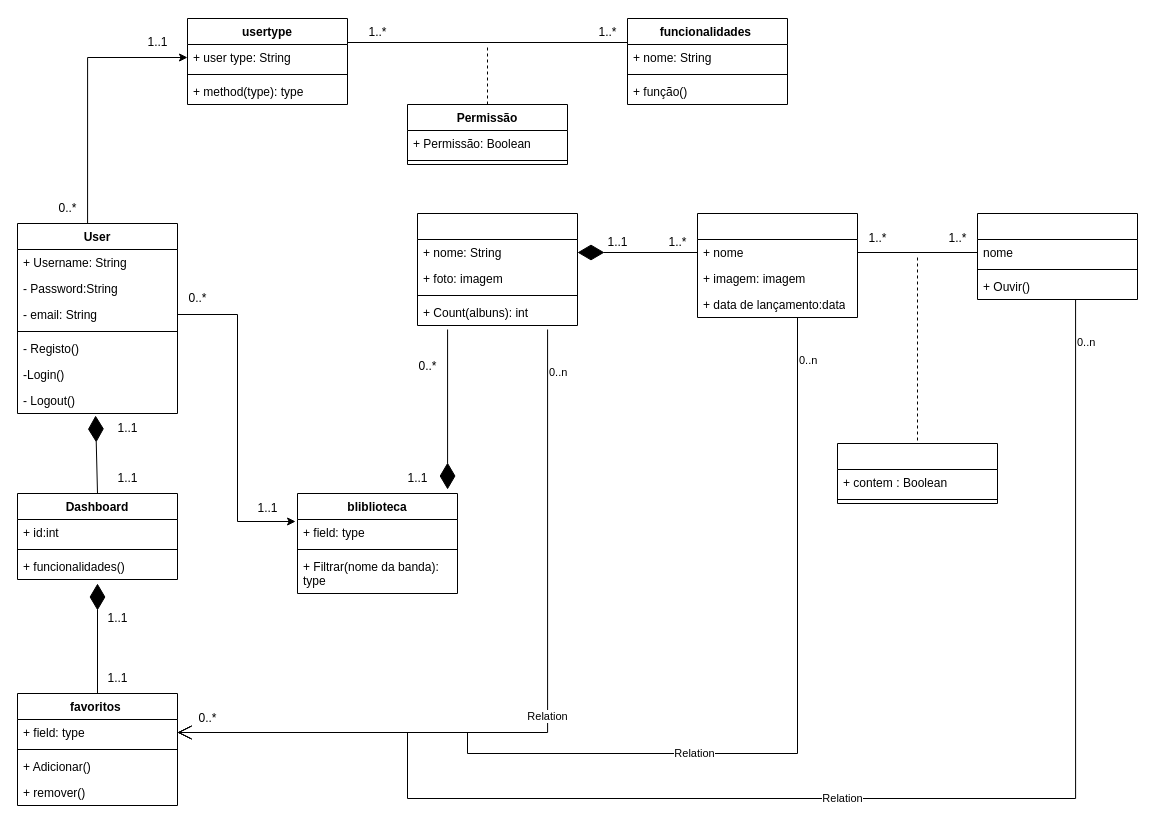
This 1155x830 diagram has some shape labels left out. The shapes that lost their labels are listed below. From the top down, each one's box as (x1, y1, x2, y2) in pixels, then its label:
(416, 212, 578, 326): banda
(696, 212, 858, 318): álbum
(976, 212, 1138, 300): musica
(836, 442, 998, 504): album_musica
